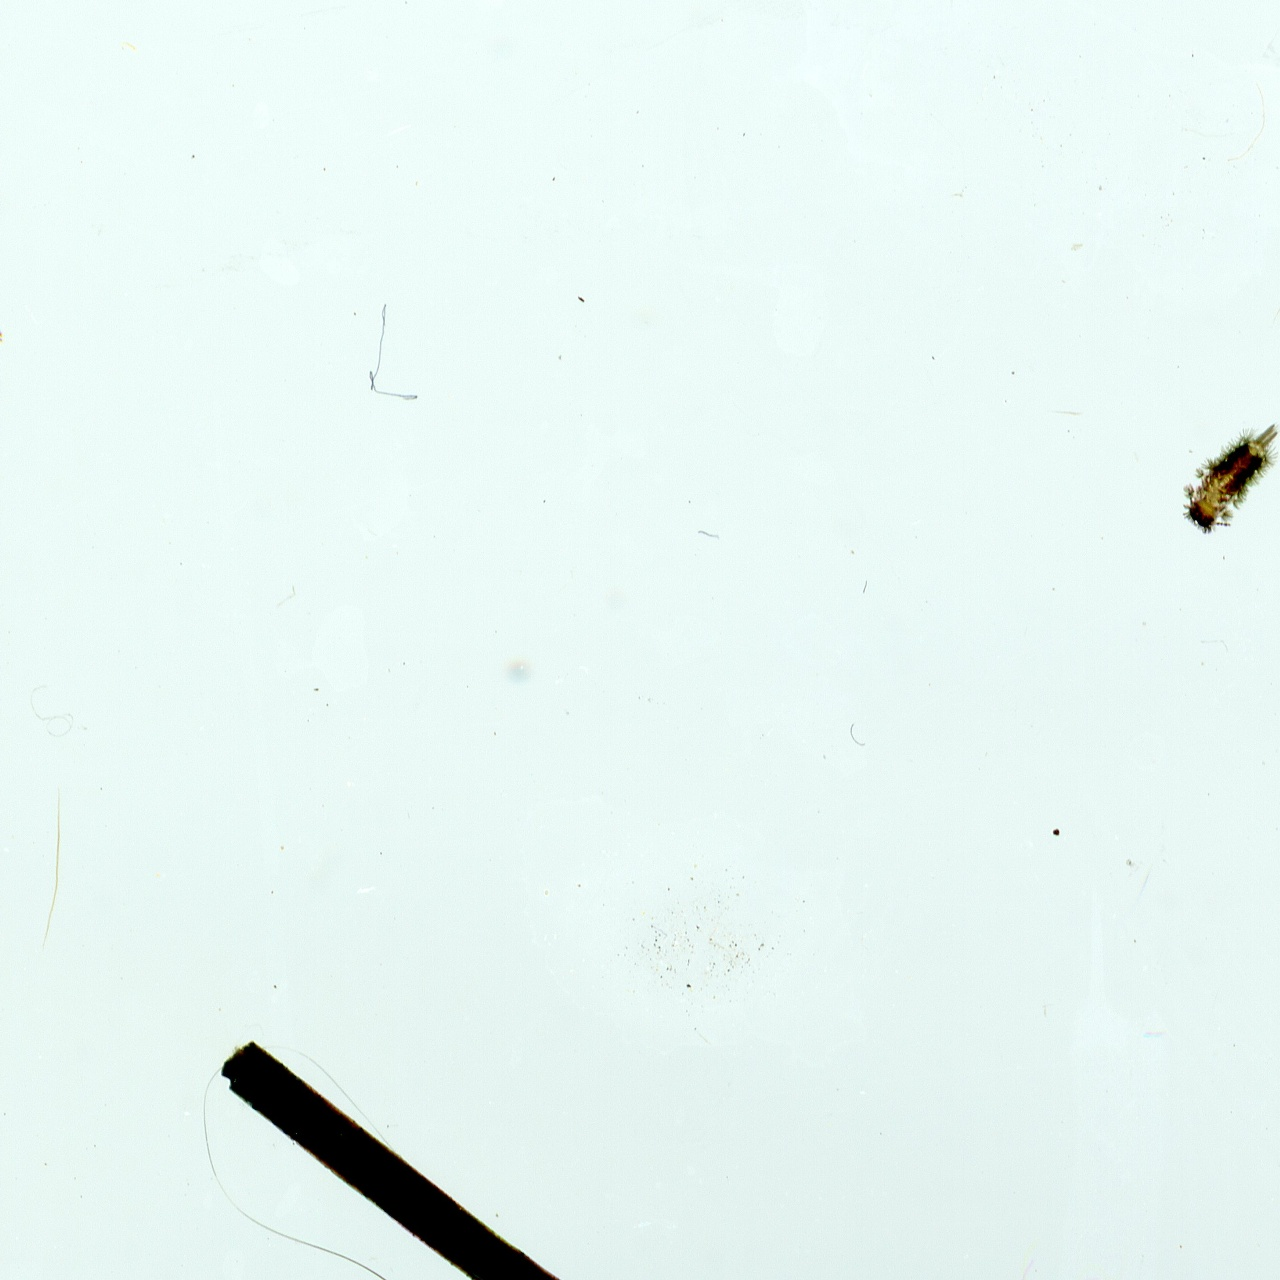arthropod: (1184, 418, 1278, 542)
